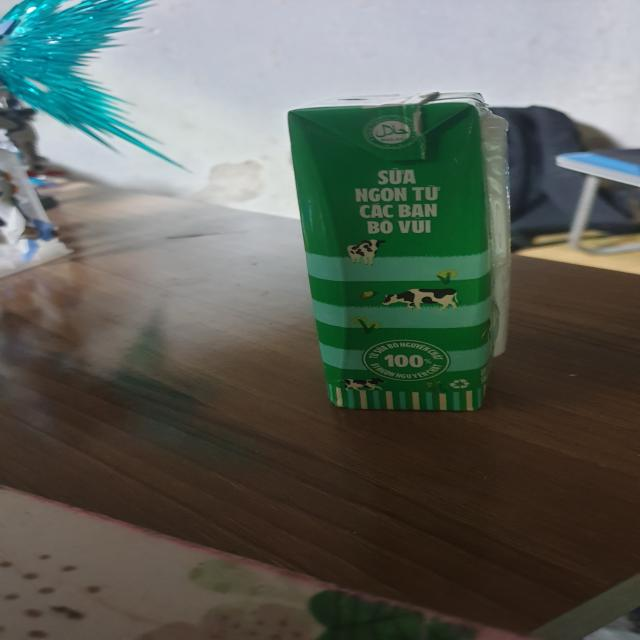Vina: (283, 90, 520, 417)
